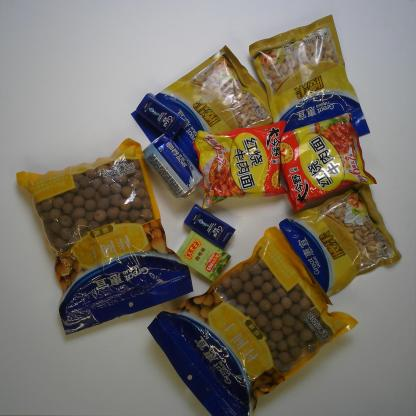Alcohol: (140, 132, 208, 202)
Candy: (173, 227, 234, 284)
Dried Food: (144, 221, 362, 410), (13, 137, 199, 339)
Dried Fruit: (129, 41, 277, 167), (277, 175, 403, 306), (249, 13, 372, 143)
Instant Noodles: (273, 110, 380, 212), (190, 118, 290, 212)
Personal Hygiene: (180, 200, 237, 249), (133, 92, 188, 141)
